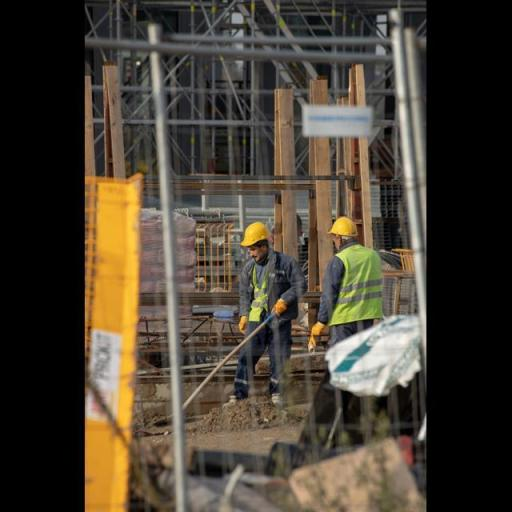Person: (307, 199, 394, 442), (227, 202, 305, 431)
boots: (220, 382, 257, 416), (266, 374, 292, 418)
gloves: (304, 317, 328, 357), (269, 295, 292, 321), (235, 308, 255, 334)
helmet: (322, 205, 366, 247), (235, 215, 279, 254)
vest: (232, 251, 310, 406), (314, 240, 391, 354)
